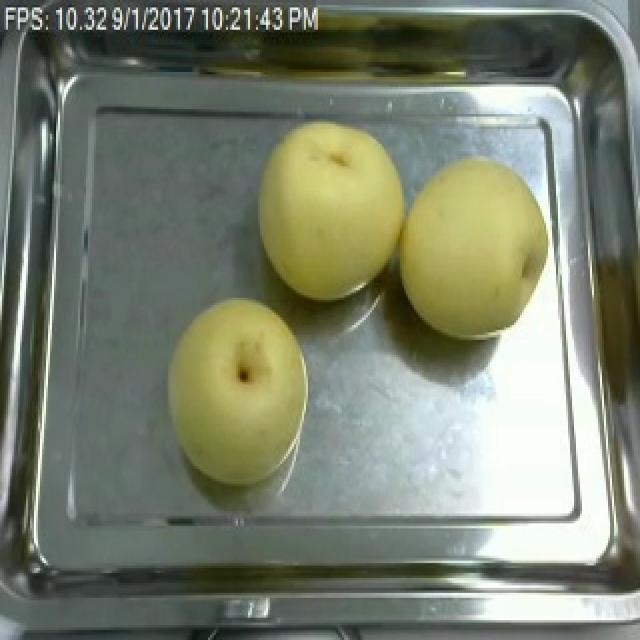Fruit: (388, 146, 558, 345), (250, 109, 416, 310), (158, 290, 318, 491)
